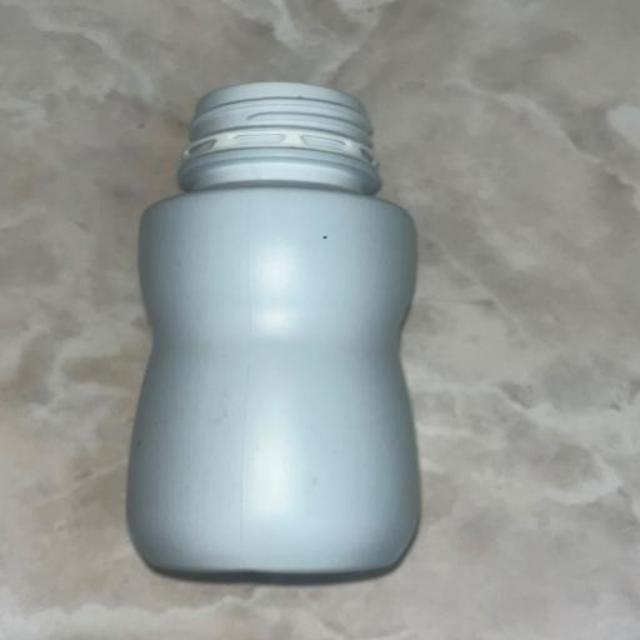HDPE: (98, 52, 536, 640)
